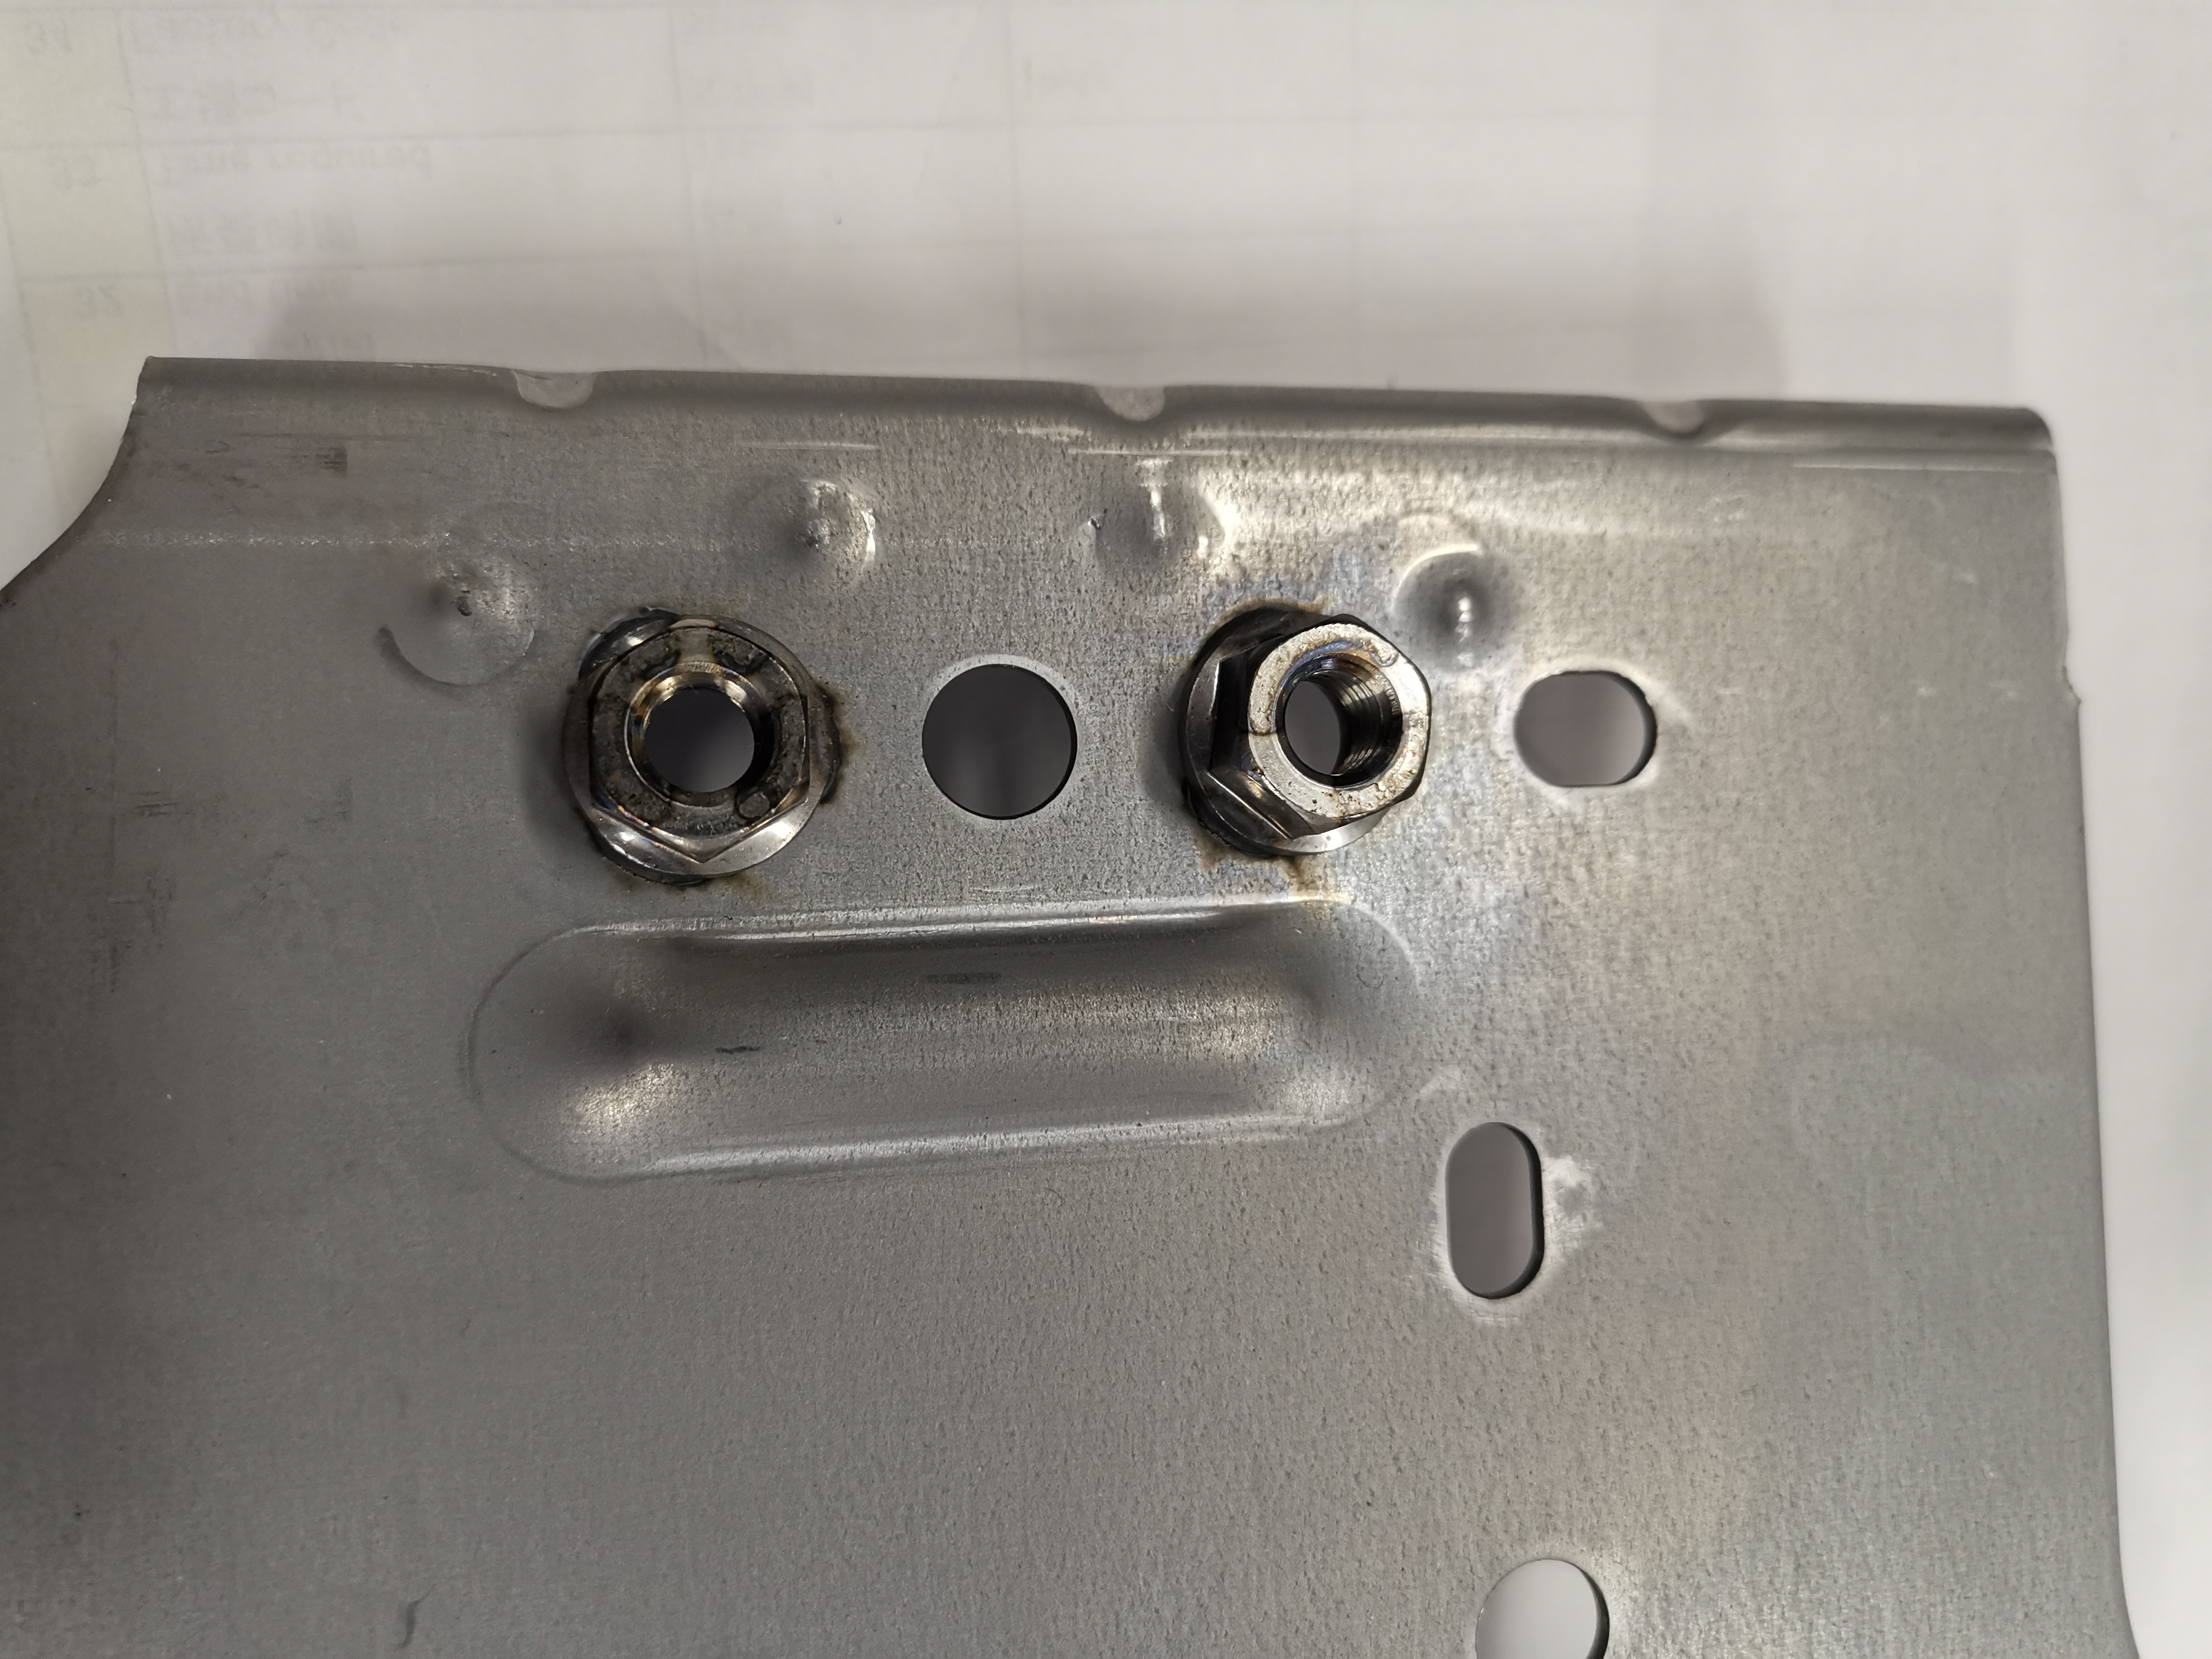dog: (554, 603, 846, 894), (1169, 592, 1439, 870)
